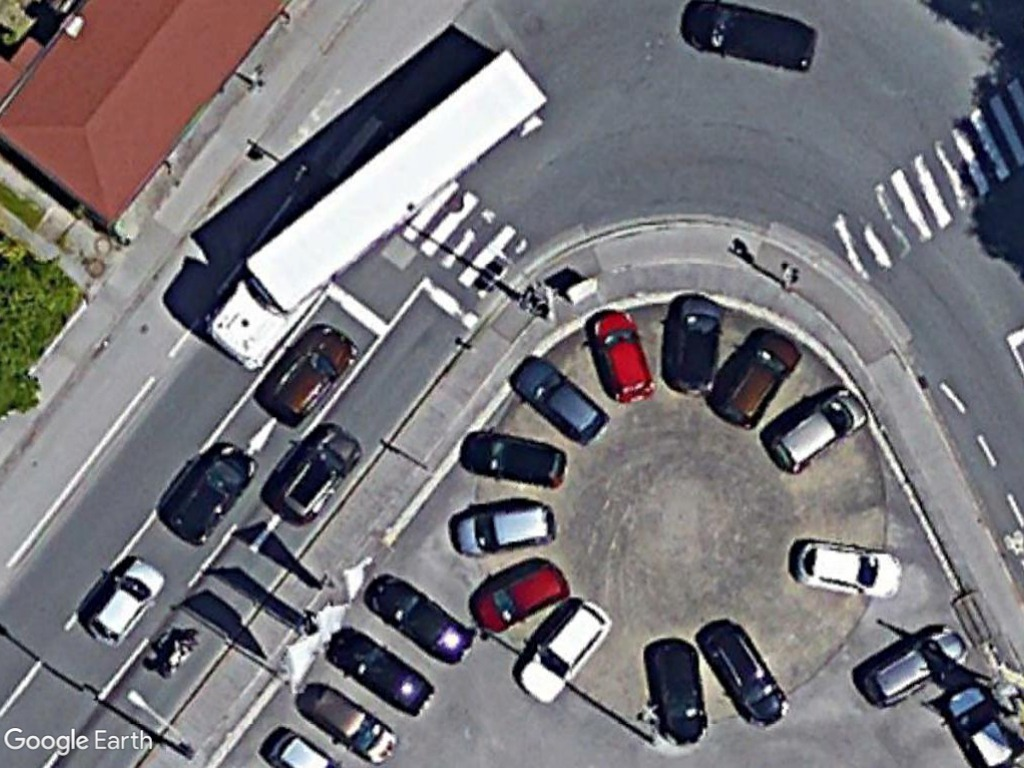car: (155, 439, 262, 546), (264, 423, 371, 528), (511, 598, 616, 705), (254, 322, 362, 426), (701, 614, 794, 734), (698, 327, 807, 427), (366, 569, 476, 668), (501, 351, 614, 443), (854, 624, 974, 709), (761, 385, 871, 474), (300, 674, 401, 765), (467, 554, 572, 640), (80, 556, 173, 649), (785, 535, 908, 604), (644, 633, 712, 753), (458, 421, 574, 490), (584, 305, 658, 407), (445, 499, 563, 562), (664, 293, 727, 398)
longvehicle: (196, 43, 555, 370)
